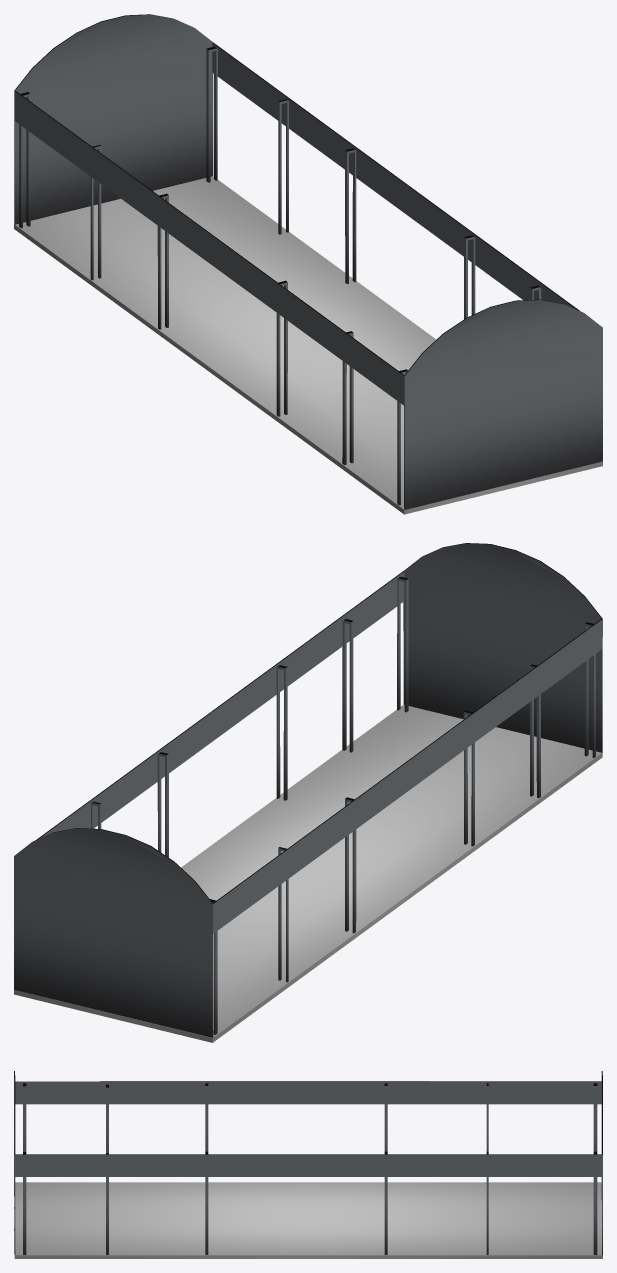
The model's file is soulbrain_T8-storage-1.glb.
3 renders of one model, top to bottom at view 1: azimuth 30°, elevation 25°; view 2: azimuth 150°, elevation 25°; view 3: azimuth 270°, elevation 25°, orthographic. The views are drawn at different scales.
Visible parts, largest first — view 1: Box1674, T8-5; view 2: Box1674, T8-5; view 3: T8-5, Box1674.
Boxes of the visible parts, left/top/right/bottom form: Box1674: left=14, top=14, right=602, bottom=509; T8-5: left=14, top=176, right=602, bottom=514; Box1674: left=14, top=543, right=602, bottom=1037; T8-5: left=14, top=704, right=602, bottom=1042; T8-5: left=14, top=1182, right=602, bottom=1258; Box1674: left=14, top=1071, right=602, bottom=1255.
Bounding box in the file's own units: 13.05 × 11.69 × 44.43.
Materials: 3 (2 with a texture image).
